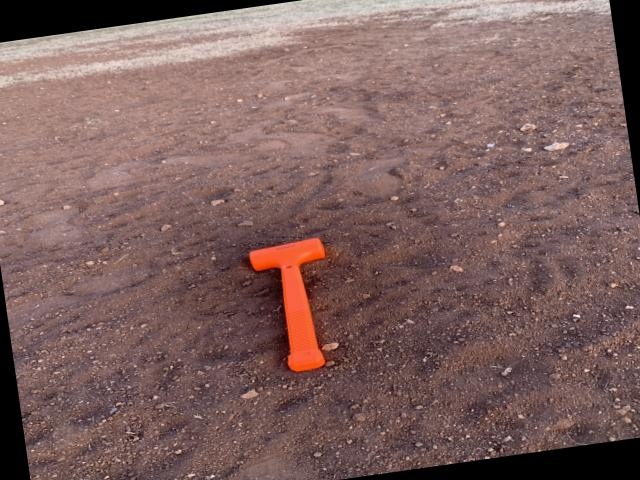hammer: (244, 236, 344, 376)
